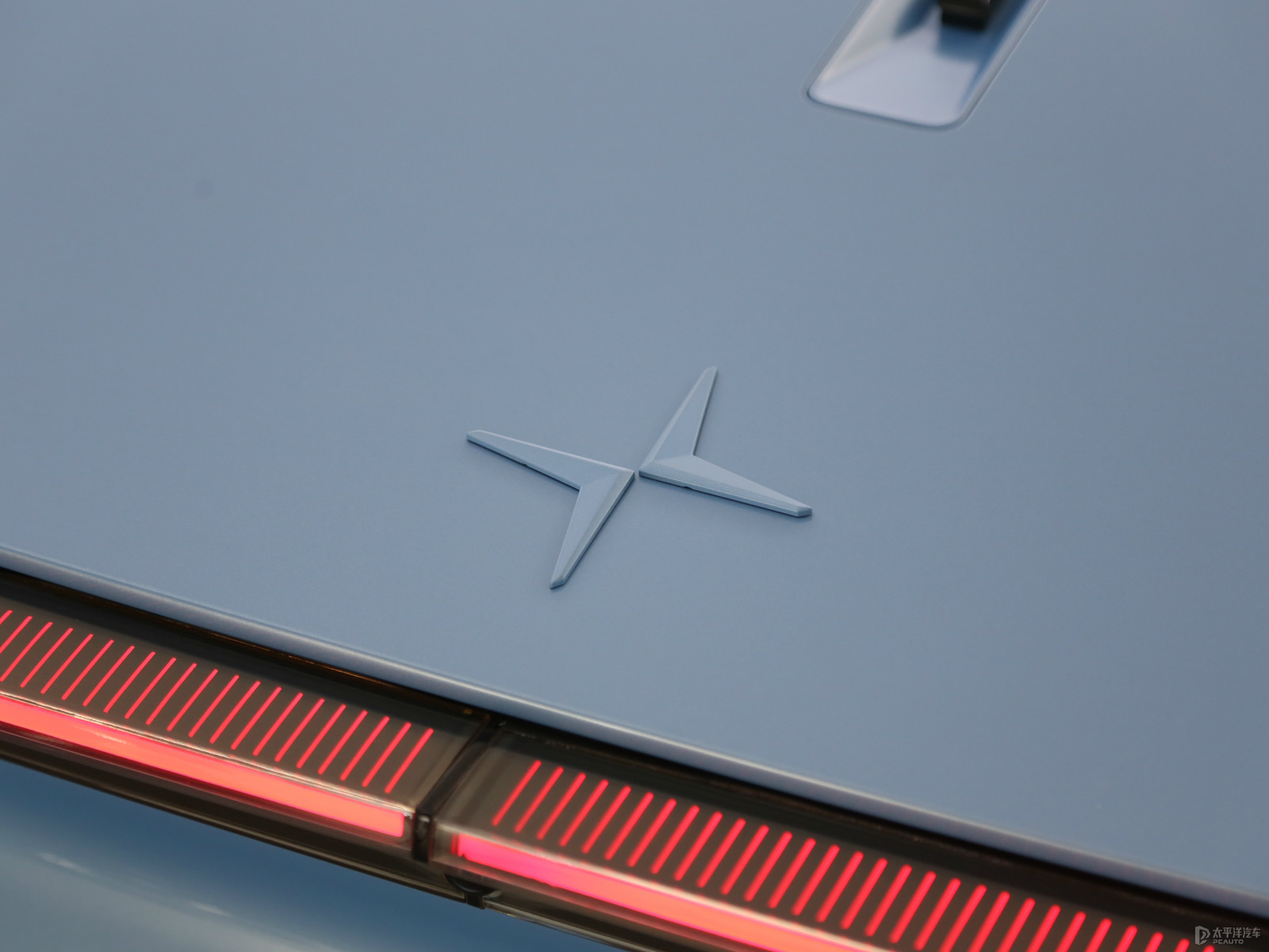Polestar: (468, 367, 812, 589)
